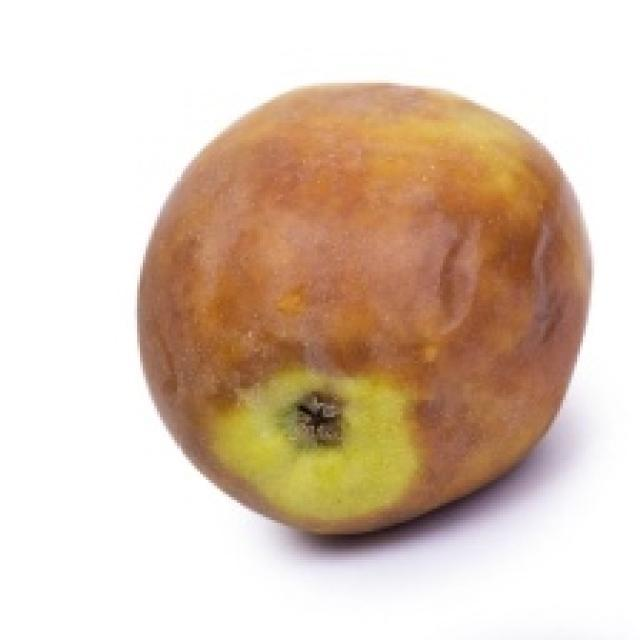apple: (138, 84, 590, 534)
